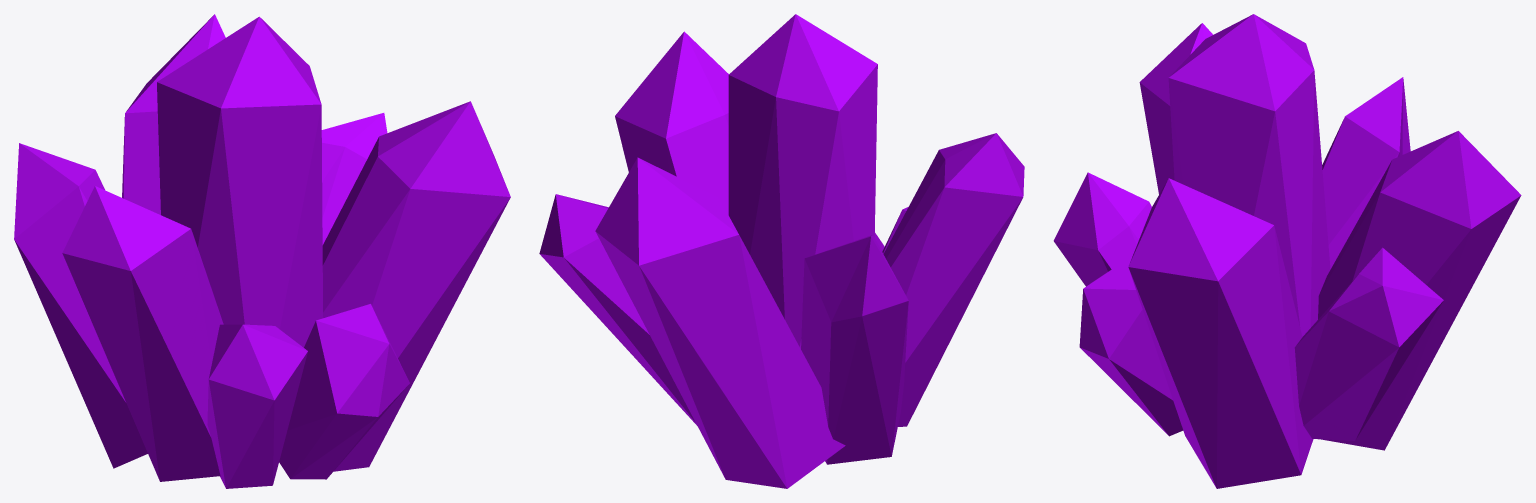
The model's file is purple_crystal_block.obj.
The picture shows the model from 3 angles, left to right: view 1: azimuth 30°, elevation 25°; view 2: azimuth 150°, elevation 25°; view 3: azimuth 270°, elevation 25°; orthographic projection. The views are drawn at different scales.
Visible parts, largest first — view 1: Icosphere.036_Icosphere.037; view 2: Icosphere.036_Icosphere.037; view 3: Icosphere.036_Icosphere.037.
Part boxes in pixels (x1,y1,x2,y2): Icosphere.036_Icosphere.037: (14,14,510,488); Icosphere.036_Icosphere.037: (539,14,1024,488); Icosphere.036_Icosphere.037: (1053,14,1521,488).
Size of the model in its own units: 1.01 by 1.01 by 0.9894.
